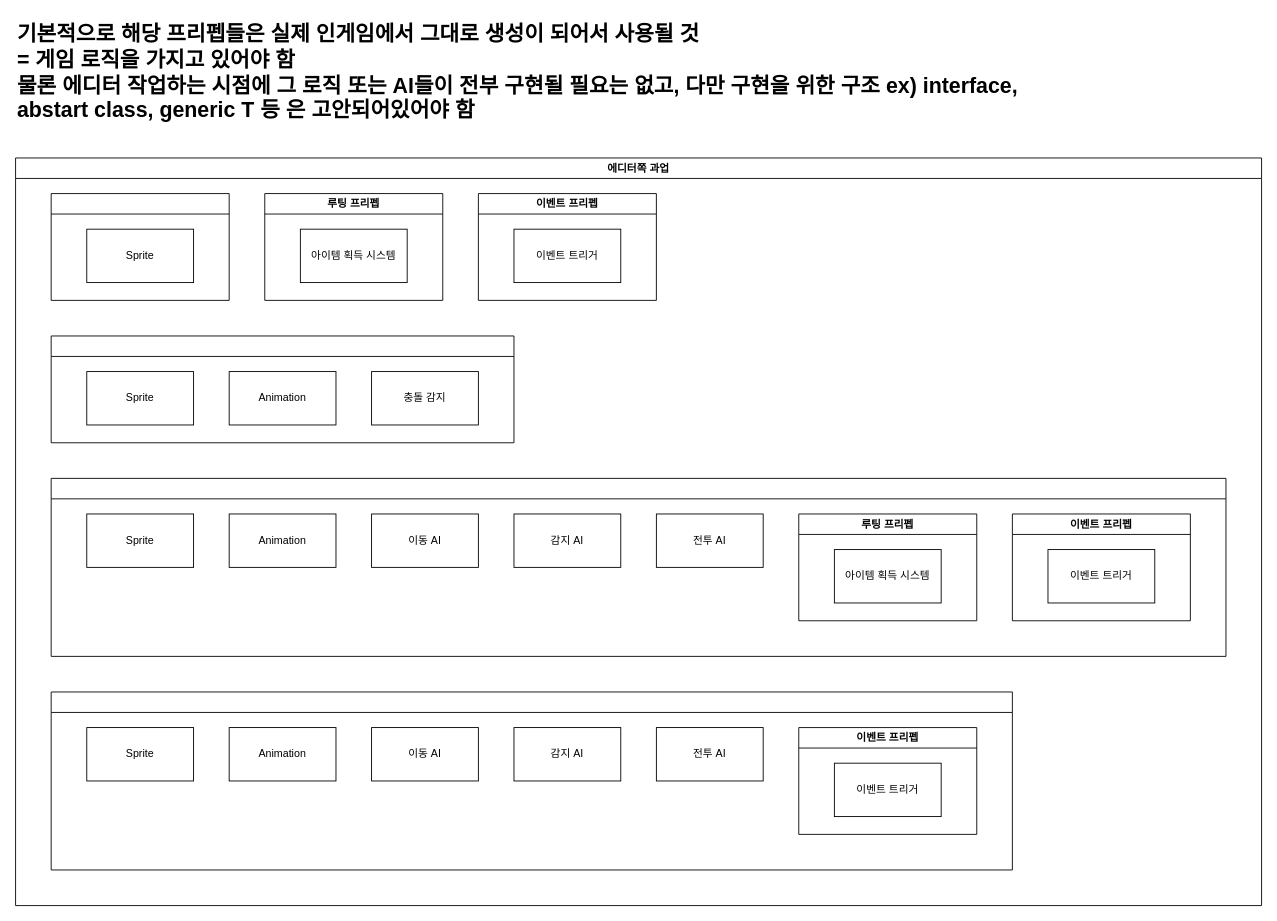
This 1277x921 diagram has some shape labels left out. Each missing label, with the box of its shape:
NPC 프리펩: (50, 691, 1012, 870)
장애물 프리펩: (50, 335, 514, 443)
적 프리펩: (50, 477, 1226, 656)
타일 프리펩: (50, 193, 229, 300)
